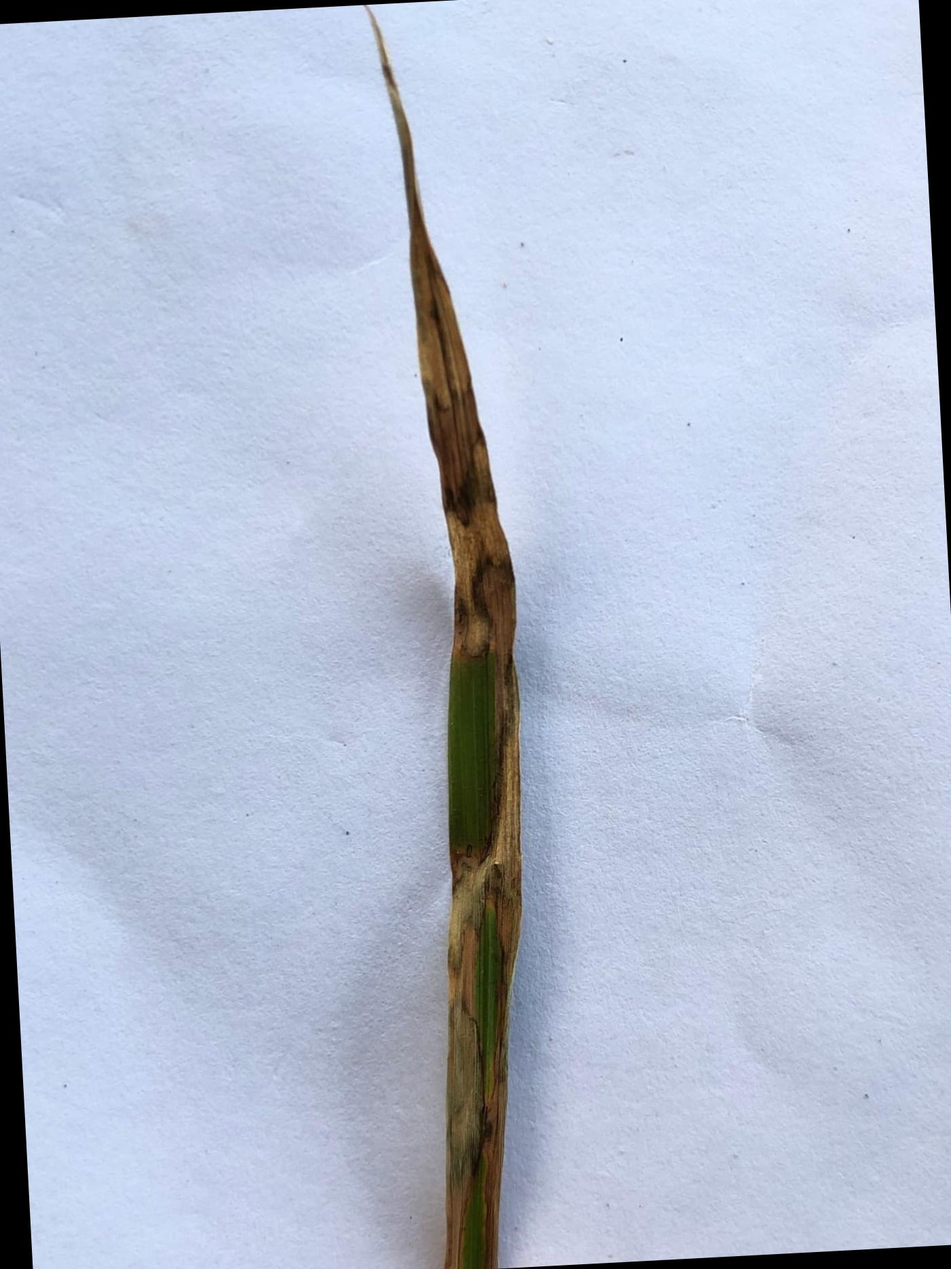Leaf Blight: (409, 194, 522, 1269)
